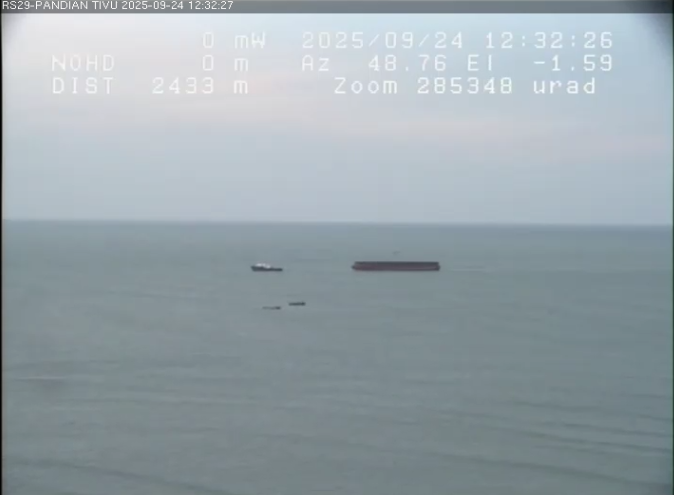BARGE: (339, 251, 456, 280)
FISHING_BOAT: (285, 295, 313, 311), (257, 301, 283, 316)
OFFSHORE_SUPPLY_VESSEL: (244, 253, 293, 280)
TOWING: (217, 223, 495, 285)
